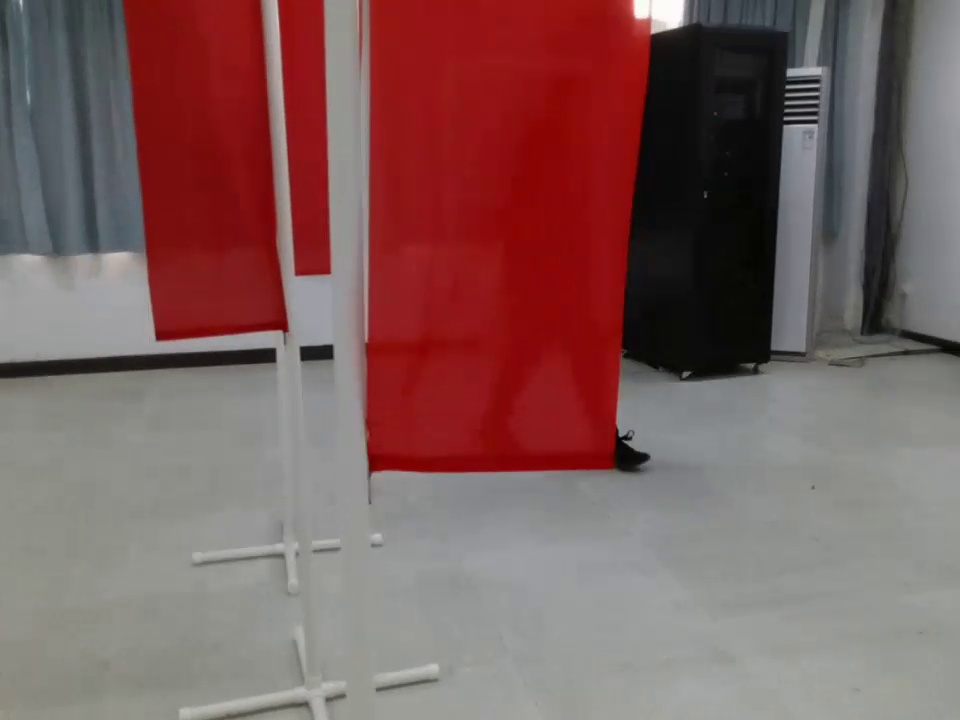qi: (336, 3, 650, 542), (115, 3, 303, 413)
